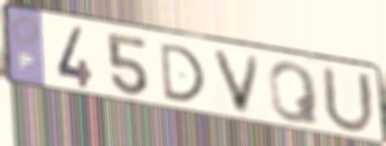4: (54, 25, 95, 91)
5: (104, 29, 152, 99)
D: (157, 40, 208, 104)
Q: (266, 60, 323, 128)
U: (319, 63, 378, 137)
V: (209, 46, 265, 119)
